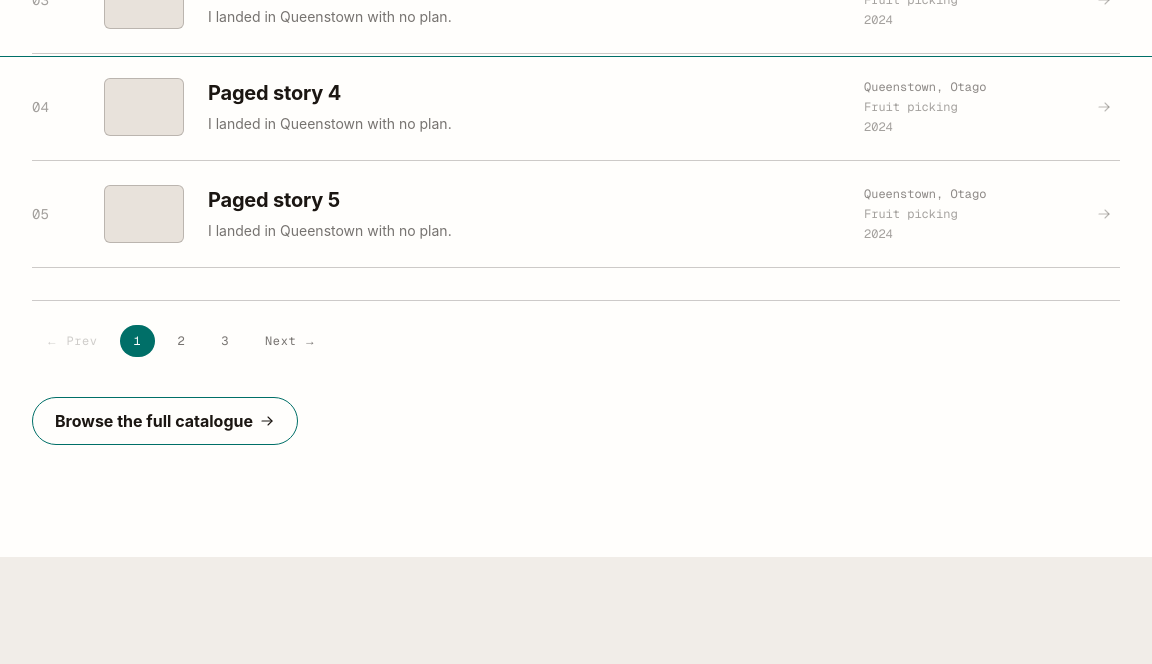
the record — pagination › disables Prev on the first page and Next on the last
The width and height of the screenshot is (1152, 664).
(page scrolled)
Expected: the button with aria-label "Previous page" is disabled, x1=32 y1=325 x2=112 y2=357
Step 1. Click the button named "Page 3 of 3" → (225, 341), box x1=207 y1=325 x2=243 y2=357
(page scrolled)
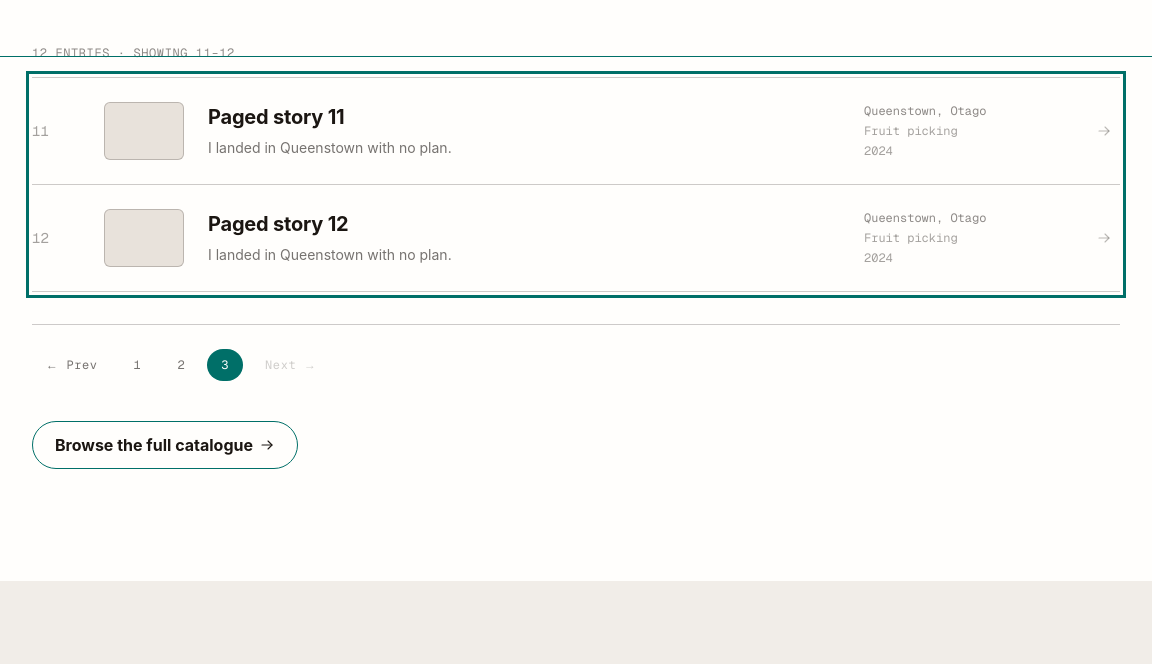
Result: the button with aria-label "Next page" is disabled at x1=251 y1=349 x2=331 y2=381
Result: the button with aria-label "Previous page" is enabled at x1=32 y1=349 x2=112 y2=381
